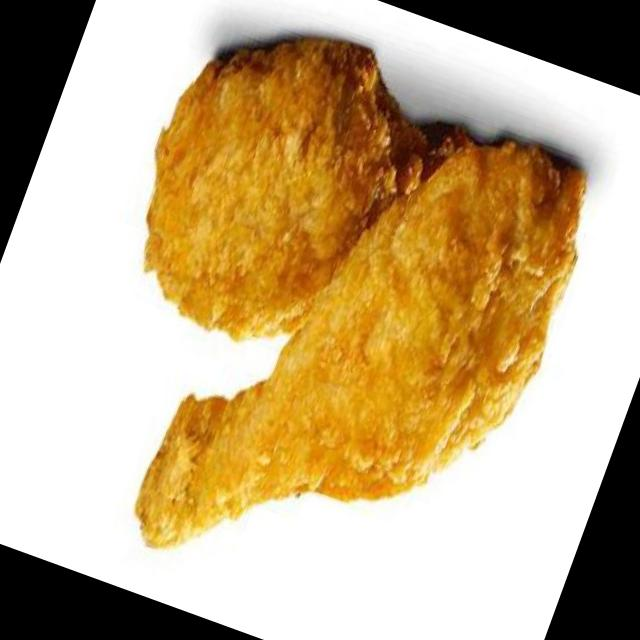Fried Chicken: (133, 121, 590, 551), (142, 34, 448, 341)
